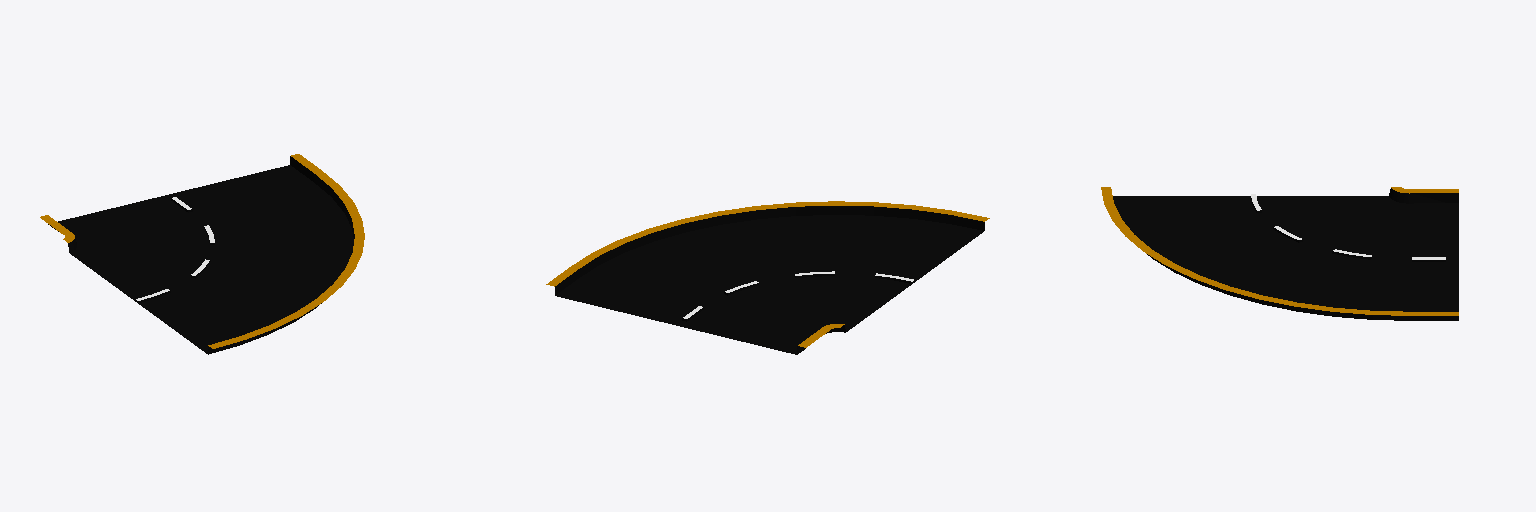
File: road7.obj
The picture shows the model from 3 angles: view 1: azimuth 30°, elevation 25°; view 2: azimuth 150°, elevation 25°; view 3: azimuth 270°, elevation 25°; orthographic projection.
Visible parts, largest first — view 1: Plane.001; view 2: Plane.001; view 3: Plane.001.
Part boxes in pixels (left/top/right/bottom): Plane.001: left=40, top=154, right=364, bottom=354; Plane.001: left=546, top=201, right=989, bottom=354; Plane.001: left=1101, top=187, right=1458, bottom=320.
Bounding box in the file's own units: 6.01 × 0.2 × 7.04.